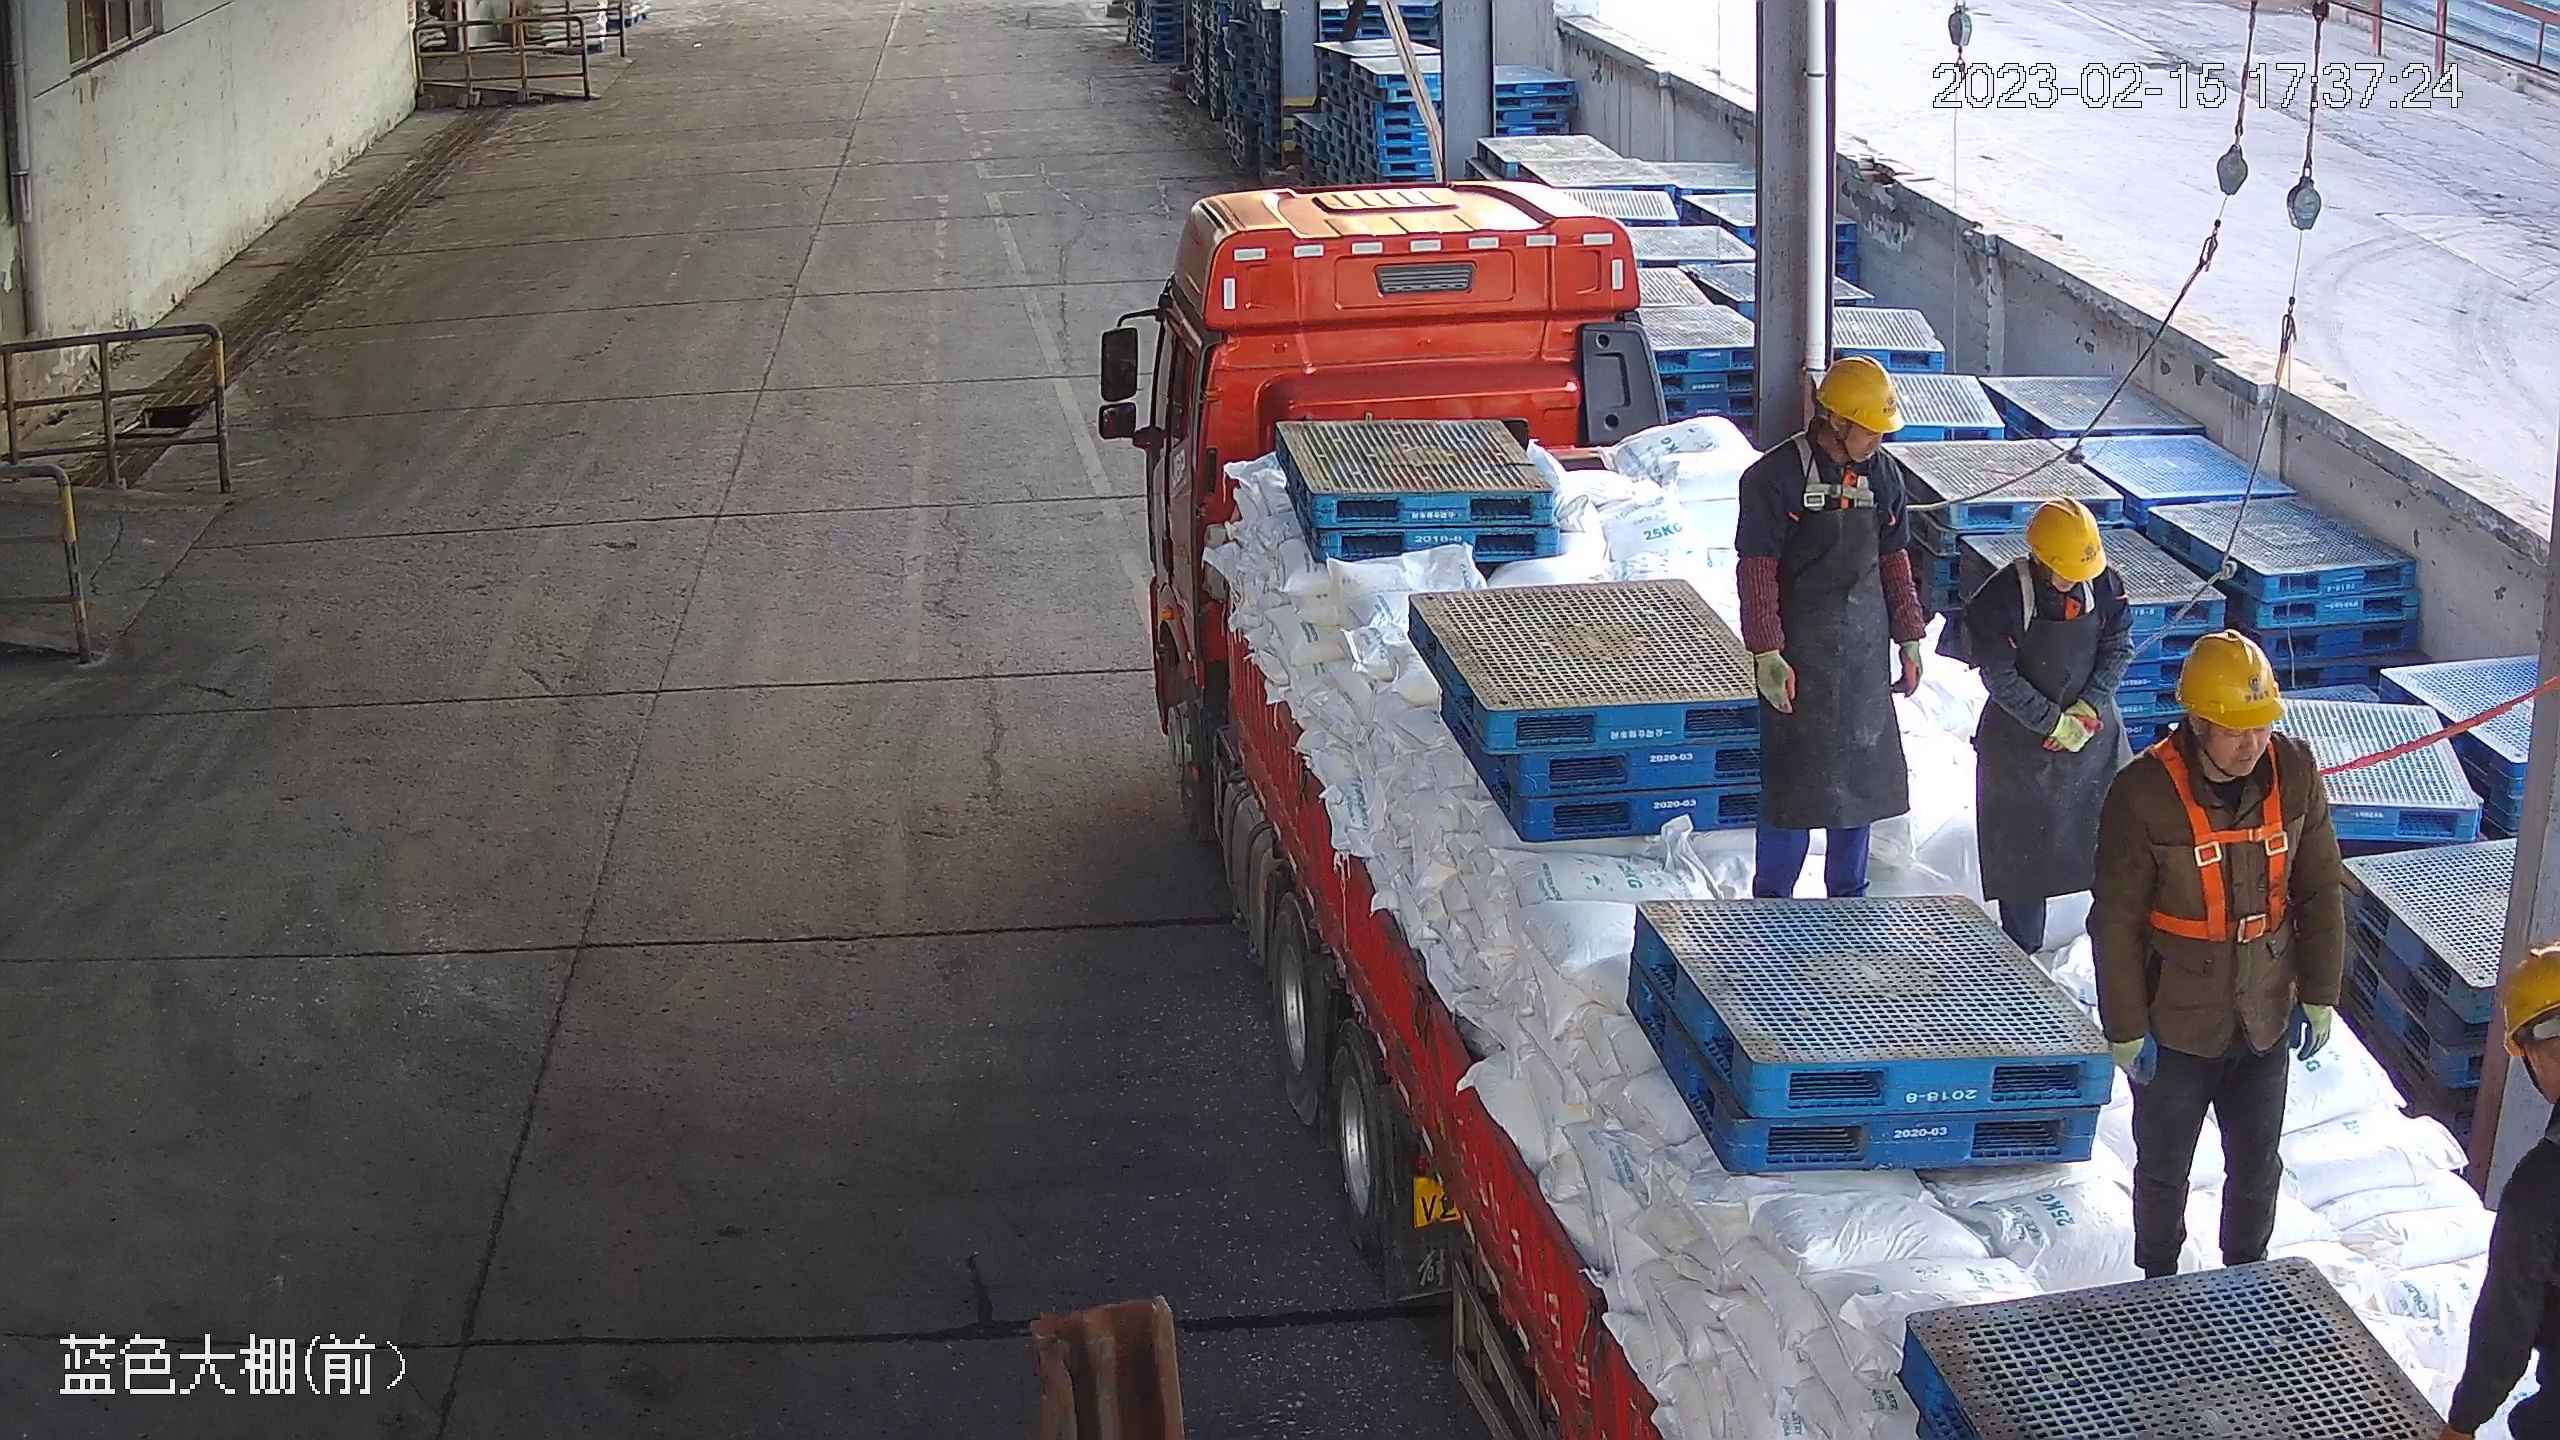belt: (2149, 721, 2312, 951), (1792, 431, 1898, 514), (2005, 551, 2103, 627)
head: (2101, 636, 2325, 830), (1740, 355, 1907, 514), (1962, 496, 2133, 633)
helmet: (2175, 631, 2296, 732), (2025, 495, 2122, 605), (2486, 932, 2560, 1047), (1812, 353, 1909, 438)
people: (2091, 623, 2348, 1281), (1729, 356, 1936, 895), (1950, 496, 2160, 952)
truck: (1086, 181, 2560, 1440)
